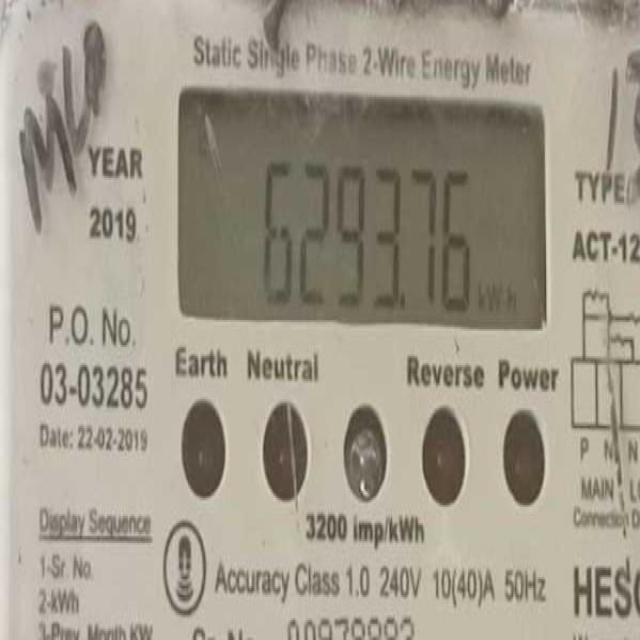2: (301, 168, 333, 312)
3: (376, 158, 403, 315)
6: (260, 154, 298, 311), (439, 162, 476, 318)
7: (409, 159, 442, 310)
9: (336, 161, 367, 316)
Digital meter: (180, 90, 546, 330)
point: (399, 284, 409, 315)
